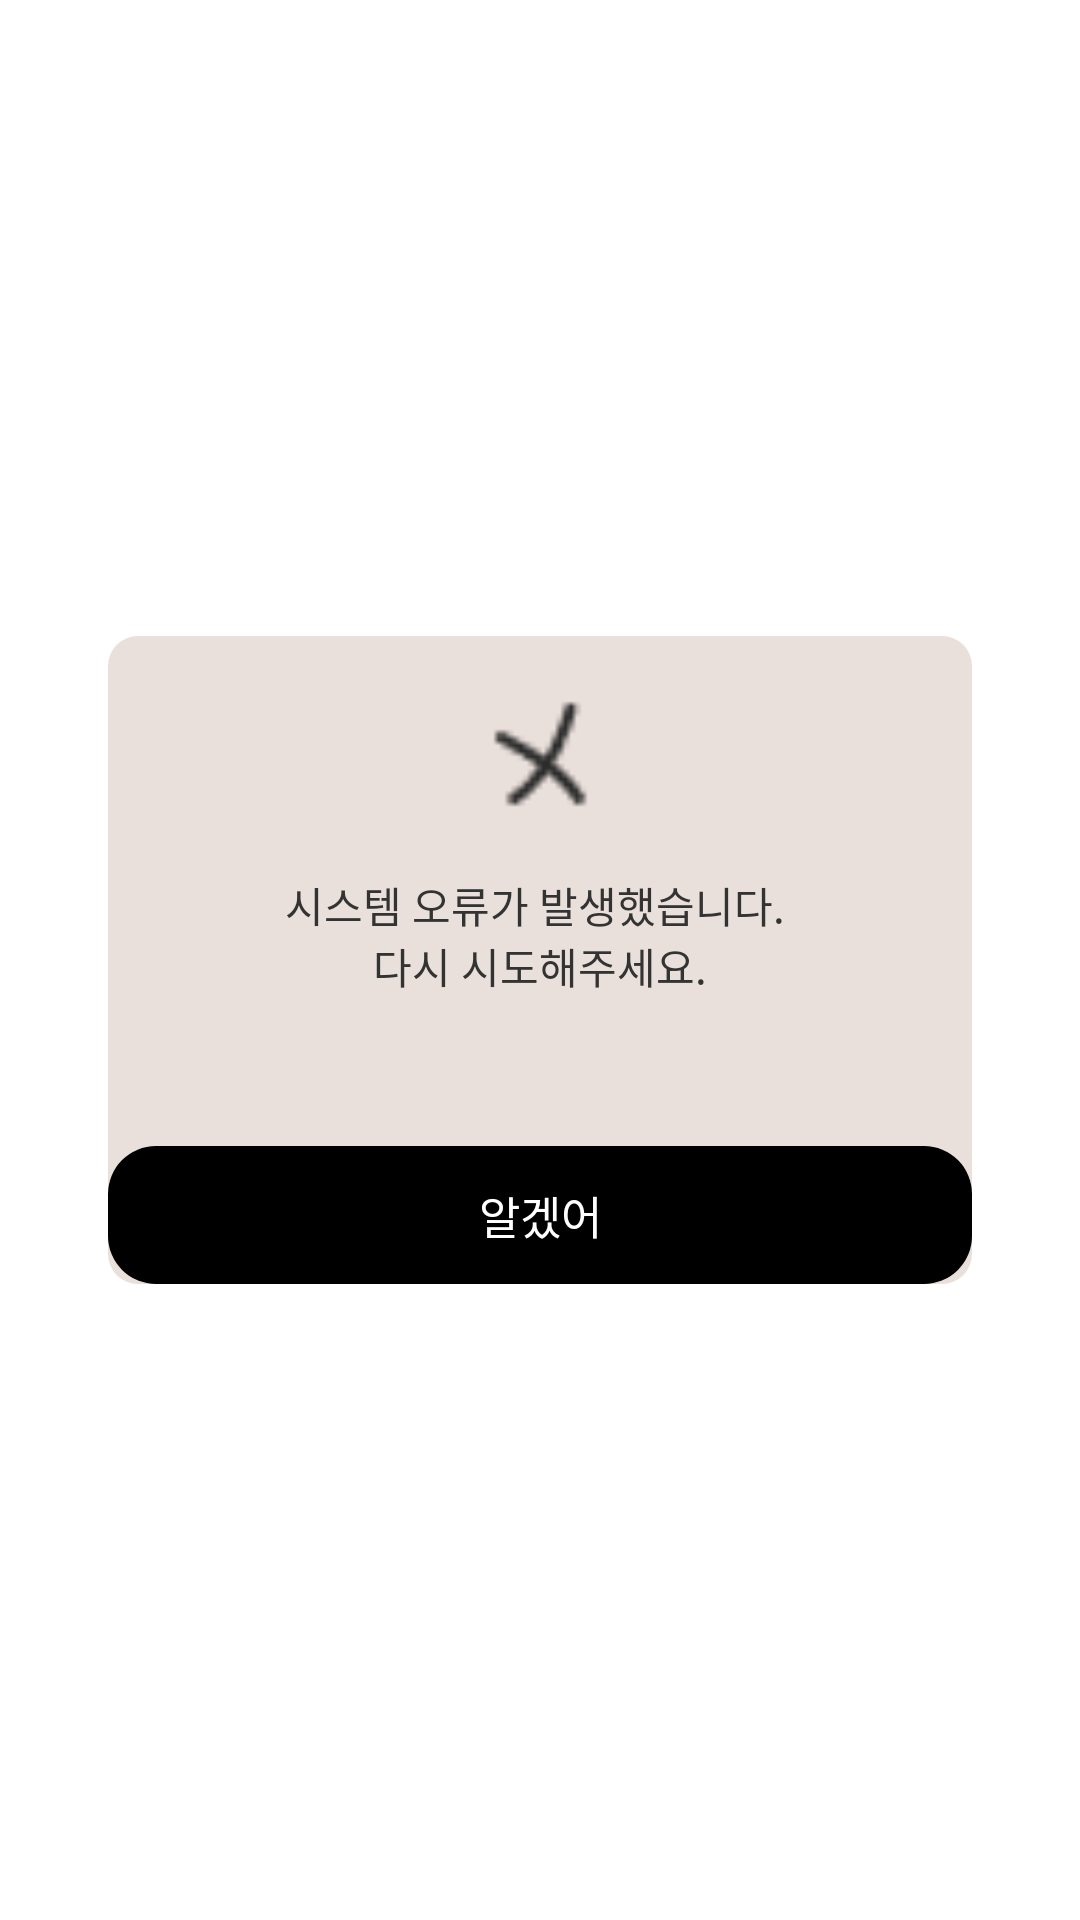

Locate icon controls on the screen. Image size 1080×1920, boxes as [x1, y1, x2, y2].
close: [494, 702, 587, 806]
